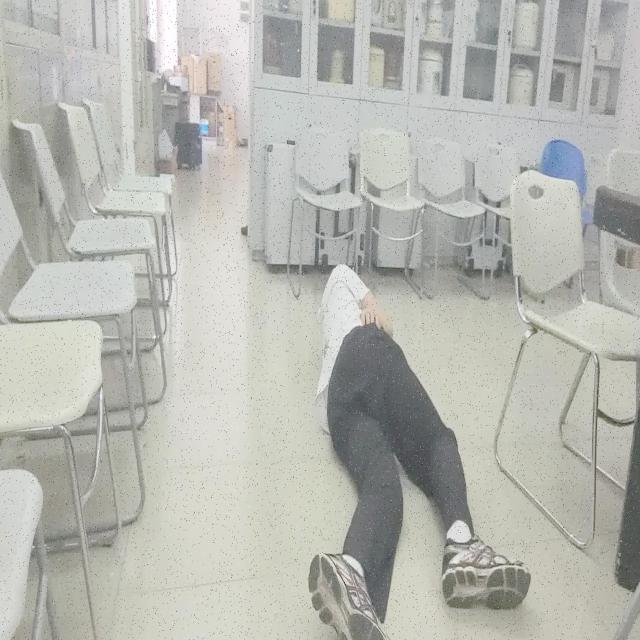fall: (306, 258, 534, 640)
